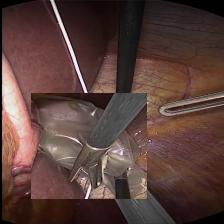Grasper: (154, 88, 224, 120), (65, 102, 106, 150)
Specimen Bag: (30, 93, 146, 199)
